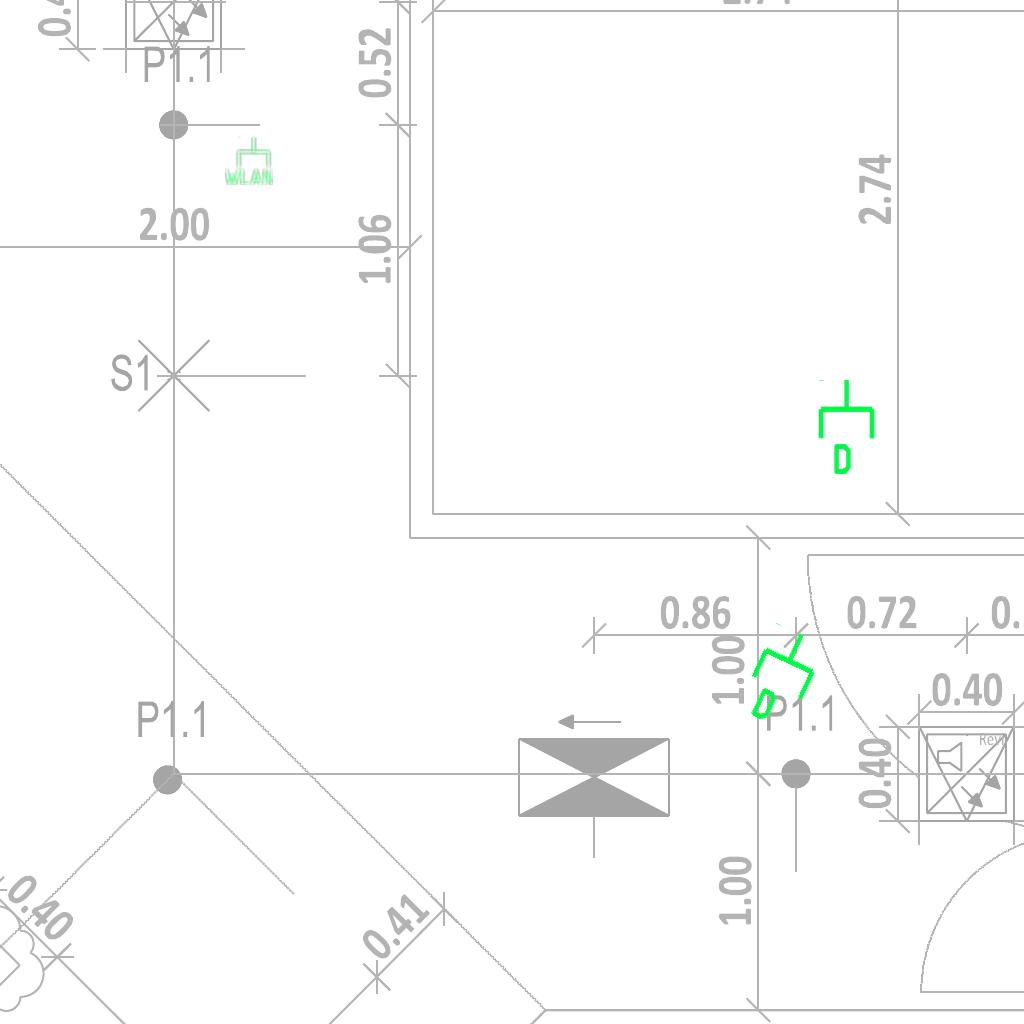Datenanschluss_einfach: (731, 618, 836, 738), (814, 377, 883, 477)
WLAN: (223, 135, 275, 187)
